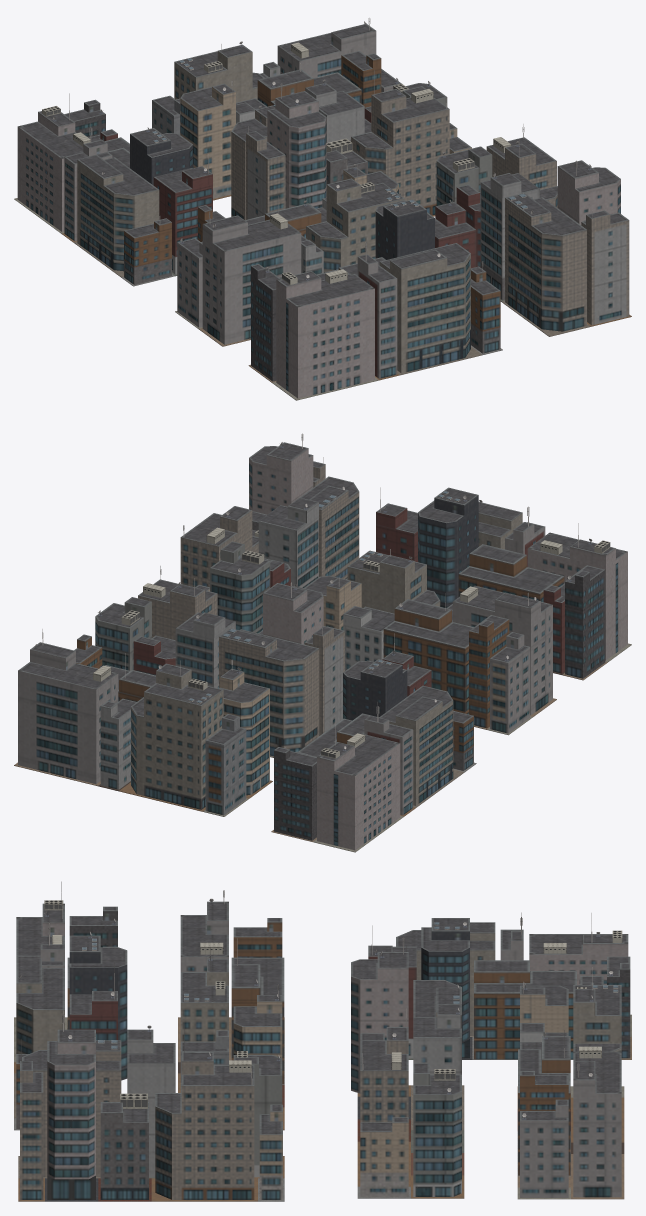
Rendered from jctlowBldLowSetD.fbx.
3 views of the same model, one above another, from view 1: azimuth 30°, elevation 25°; view 2: azimuth 150°, elevation 25°; view 3: azimuth 270°, elevation 25° (orthographic). The views are drawn at different scales.
Parts seen in each view (by area): view 1: jctlowBldLowSetD; view 2: jctlowBldLowSetD; view 3: jctlowBldLowSetD.
Boxes of the visible parts, x1,y1,x2,y2 form: jctlowBldLowSetD: (14, 18, 631, 400); jctlowBldLowSetD: (14, 433, 631, 852); jctlowBldLowSetD: (14, 881, 631, 1201).
Size of the model in its own units: 10105 by 4277 by 13930.
Materials: 12 (12 with a texture image).
